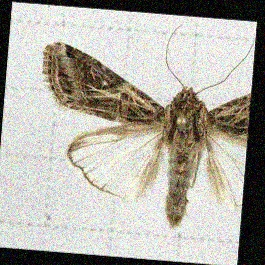Spodoptera litura: (36, 20, 248, 226)
